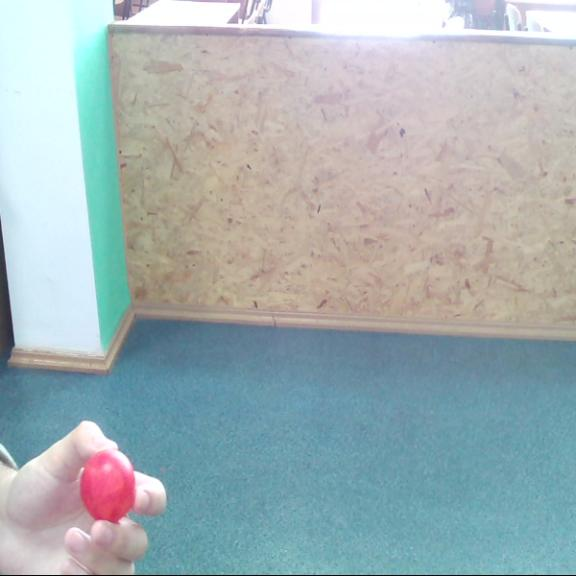ball: (80, 450, 138, 522)
